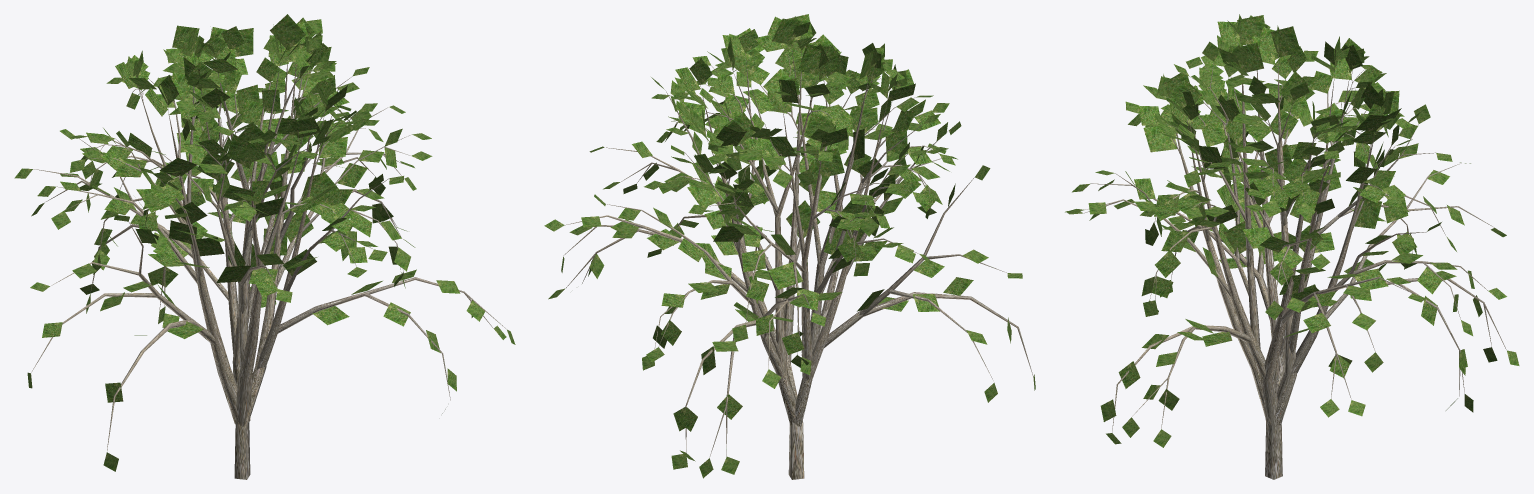
Rendered from tree1.obj.
The picture shows the model from 3 angles, left to right: view 1: azimuth 30°, elevation 25°; view 2: azimuth 150°, elevation 25°; view 3: azimuth 270°, elevation 25°; orthographic projection. The views are drawn at different scales.
Parts seen in each view (by area): view 1: leaves, tree; view 2: leaves, tree; view 3: leaves, tree.
Part boxes in pixels (x1=…): leaves: x1=14, y1=14, x2=515, y2=471; tree: x1=31, y1=46, x2=505, y2=479; leaves: x1=544, y1=14, x2=1035, y2=478; tree: x1=563, y1=44, x2=1033, y2=479; leaves: x1=1065, y1=14, x2=1519, y2=447; tree: x1=1083, y1=36, x2=1506, y2=479.
Bounding box in the file's own units: 5.41 × 5.46 × 5.07.
Materials: 2 (2 with a texture image).
